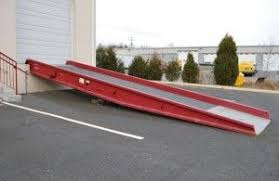Yard Ramp: (24, 57, 274, 138)
